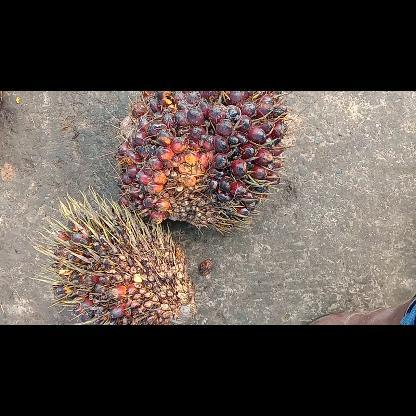Kurang masak: (108, 90, 294, 233)
TBS abnormal: (34, 186, 196, 324)
